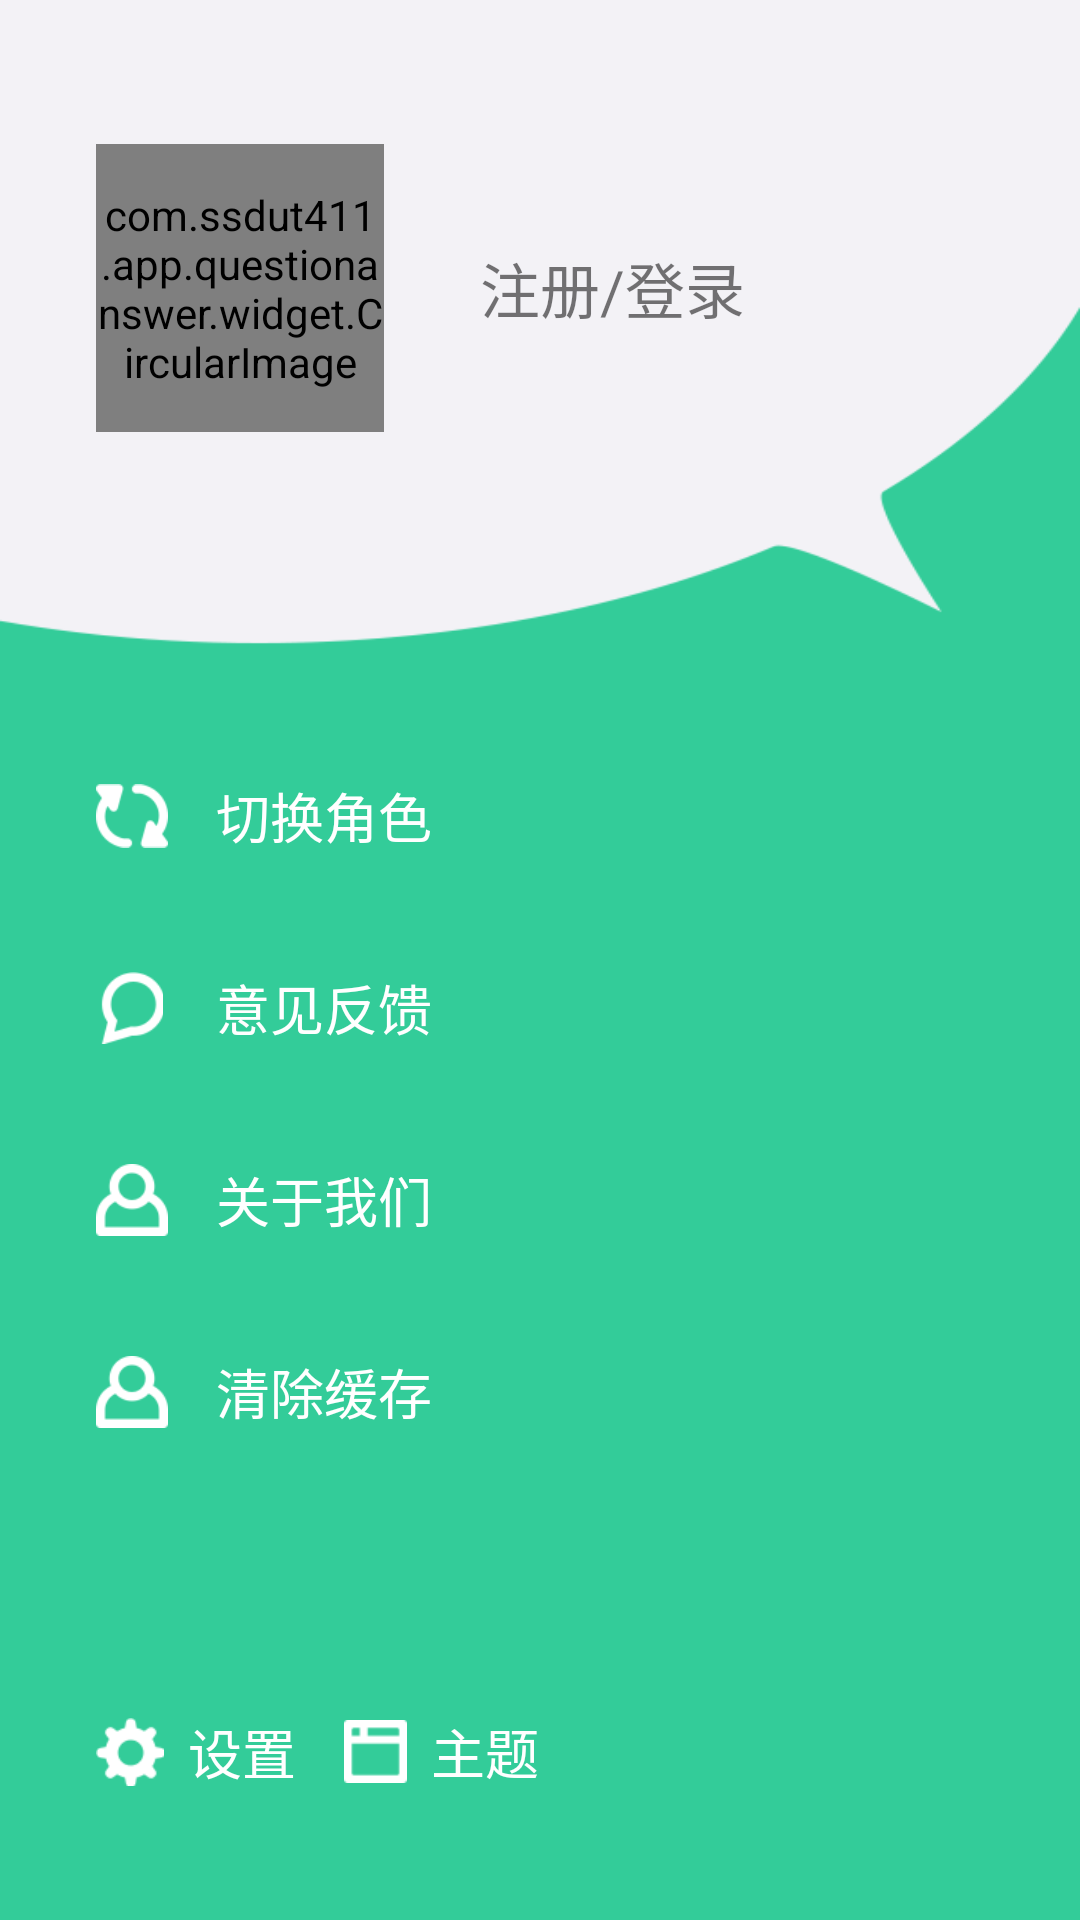

Named icons in this screenshot (1080 x 1920) and their centers, point (x, y):
sidebar change: point (132, 816)
sidebar feedback: point (132, 1008)
